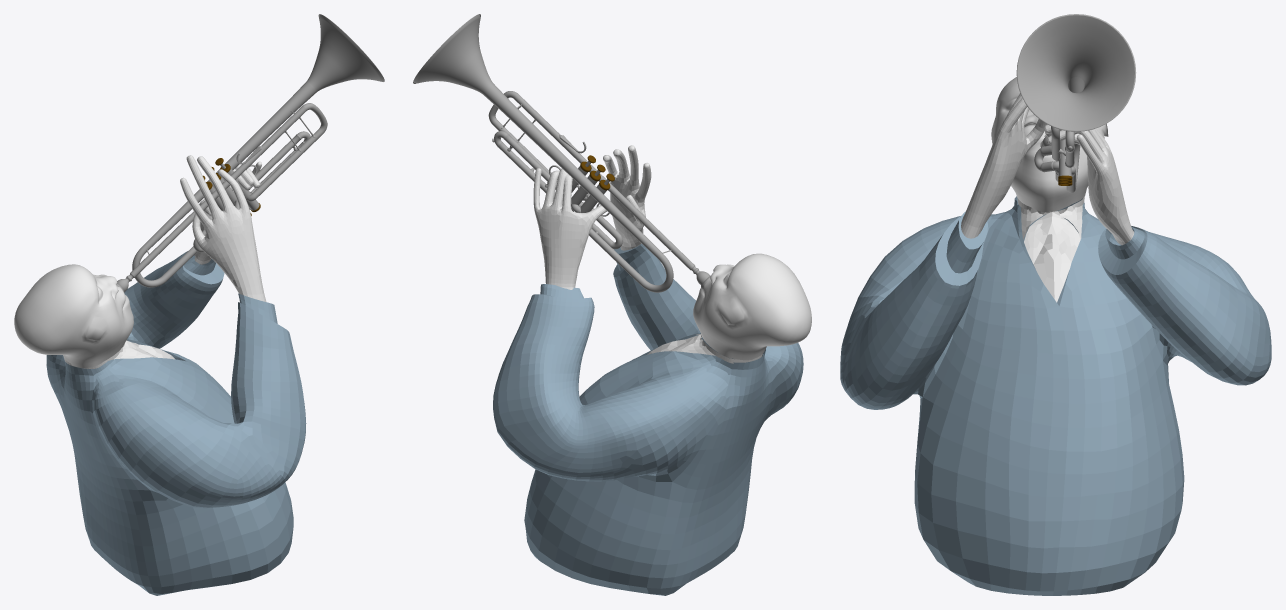
3 renders of one model, left to right at view 1: azimuth 30°, elevation 25°; view 2: azimuth 150°, elevation 25°; view 3: azimuth 270°, elevation 25°, orthographic. The views are drawn at different scales.
Parts seen in each view (by area): view 1: Body_LP, Trumpet, Head, Hands, Tie; view 2: Body_LP, Trumpet, Head, Hands, Tie; view 3: Body_LP, Trumpet, Hands, Head, Tie.
Boxes of the visible parts, x1=… form: Body_LP: x1=46, y1=251, x2=306, y2=595; Trumpet: x1=116, y1=14, x2=384, y2=292; Head: x1=14, y1=264, x2=133, y2=367; Hands: x1=180, y1=155, x2=266, y2=301; Tie: x1=64, y1=340, x2=174, y2=368; Body_LP: x1=493, y1=244, x2=803, y2=595; Trumpet: x1=413, y1=14, x2=710, y2=292; Head: x1=693, y1=253, x2=811, y2=360; Hands: x1=533, y1=145, x2=651, y2=289; Tie: x1=647, y1=334, x2=762, y2=363; Body_LP: x1=840, y1=196, x2=1271, y2=595; Trumpet: x1=1016, y1=14, x2=1136, y2=192; Hands: x1=961, y1=93, x2=1134, y2=245; Head: x1=991, y1=77, x2=1108, y2=212; Tie: x1=1017, y1=197, x2=1084, y2=302.
Size of the model in its own units: 336 by 441 by 271.
